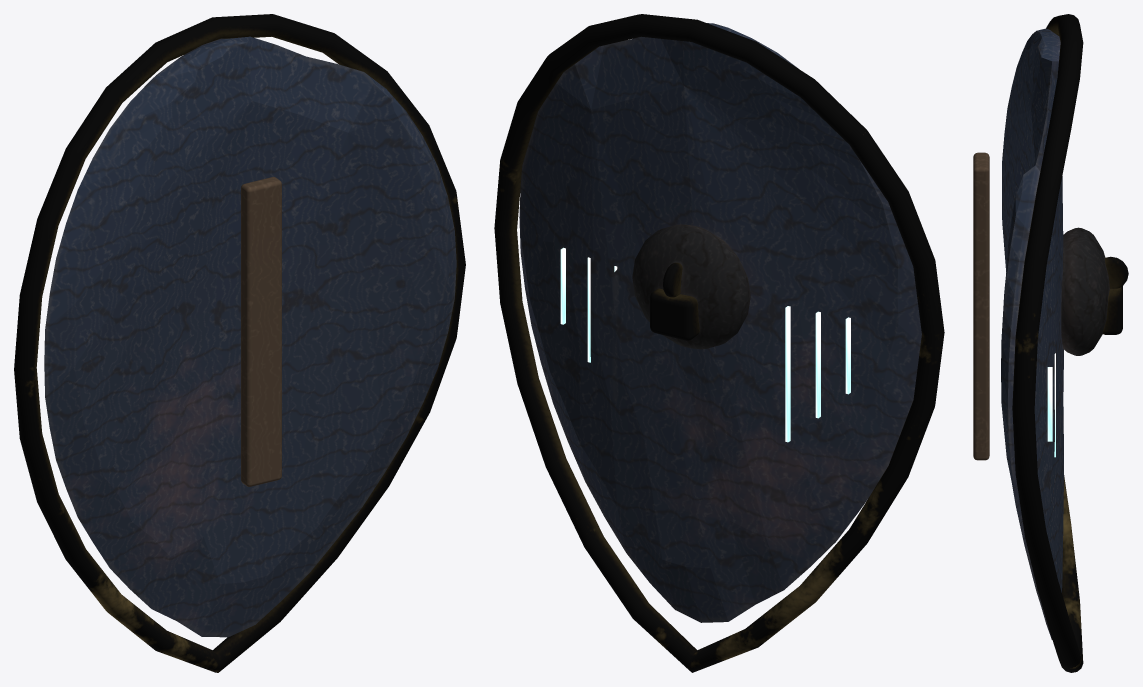
Rendered from escudo.glb.
The picture shows the model from 3 angles, left to right: view 1: azimuth 30°, elevation 25°; view 2: azimuth 150°, elevation 25°; view 3: azimuth 270°, elevation 25°; orthographic projection. The views are drawn at different scales.
Parts seen in each view (by area): view 1: escudo; view 2: escudo; view 3: escudo.
Part boxes in pixels (bbox=[...]): escudo: bbox=[14, 14, 465, 672]; escudo: bbox=[494, 14, 944, 672]; escudo: bbox=[973, 14, 1128, 672].
Bounding box in the file's own units: 0.6275 × 0.874 × 0.192.
Materials: 2 (1 with a texture image).
